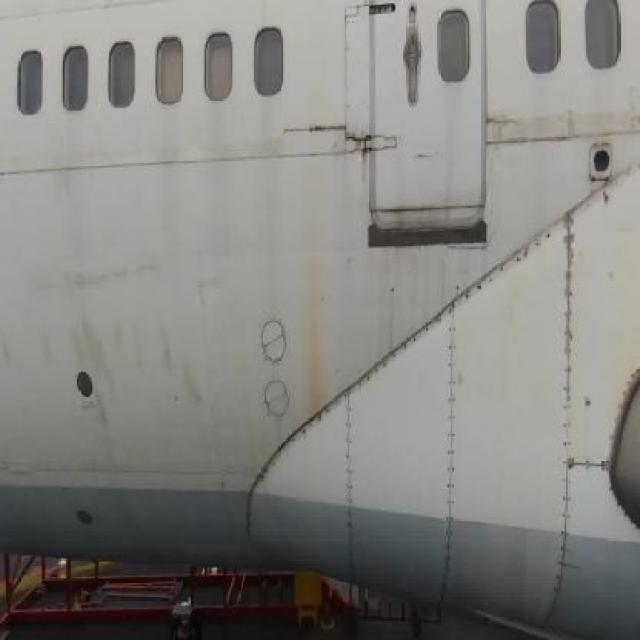Missing-Rivet: (551, 208, 577, 624), (353, 313, 441, 401), (462, 230, 550, 308), (442, 296, 460, 595), (278, 399, 338, 456), (339, 387, 361, 542), (580, 452, 612, 483)
Rust: (298, 250, 333, 421)
Scartch: (1, 301, 213, 439), (484, 99, 584, 168), (56, 242, 164, 298), (191, 261, 224, 297)
